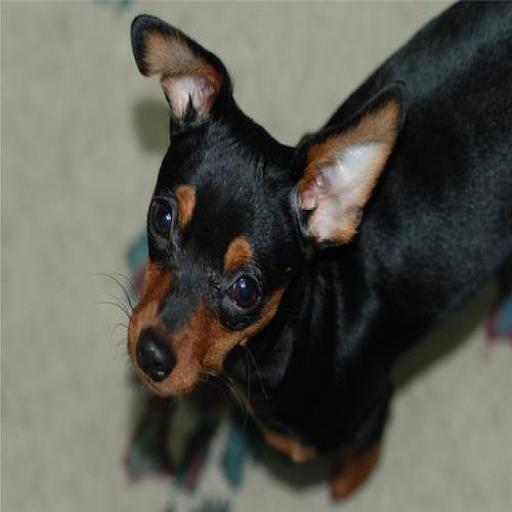dog_face: (121, 19, 405, 412)
